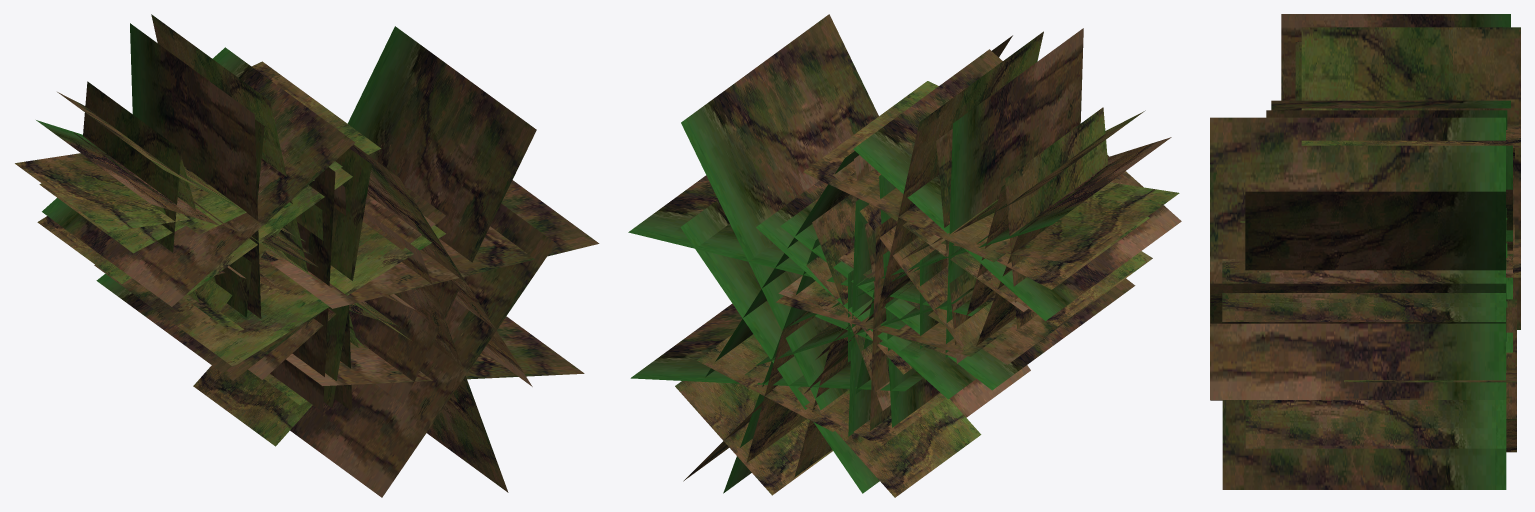
The model's file is Grass.FBX.
3 renders of one model, left to right at view 1: azimuth 30°, elevation 25°; view 2: azimuth 150°, elevation 25°; view 3: azimuth 270°, elevation 25°, orthographic. The views are drawn at different scales.
Parts seen in each view (by area): view 1: grass_hi_01, grass_hi_06, grass_hi_05, grass_lo_08; view 2: grass_hi_01, grass_hi_05, grass_hi_06, grass_lo_08, grass_lo_13, grass_lo_00; view 3: grass_hi_01, grass_hi_06, grass_hi_05, grass_lo_08, grass_lo_13.
Boxes of the visible parts, x1,y1,x2,y2 form: grass_hi_01: (15,26,599,446); grass_hi_06: (39,92,584,497); grass_hi_05: (36,14,381,332); grass_lo_08: (227,185,445,411); grass_hi_01: (628,14,1179,497); grass_hi_05: (675,28,1181,495); grass_hi_06: (630,110,1149,493); grass_lo_08: (755,180,976,436); grass_lo_13: (778,194,960,410); grass_lo_00: (806,256,912,374); grass_hi_01: (1210,117,1505,399); grass_hi_06: (1210,42,1507,489); grass_hi_05: (1271,14,1520,452); grass_lo_08: (1506,145,1512,352); grass_lo_13: (1506,189,1512,273).
Bounding box in the file's own units: 4.14 × 3.75 × 2.81.
